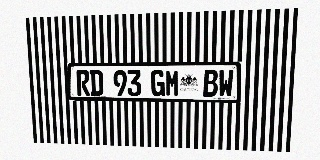3: (127, 70, 141, 96)
9: (113, 70, 127, 96)
B: (203, 70, 218, 97)
D: (89, 70, 103, 96)
G: (151, 70, 165, 96)
M: (165, 70, 179, 96)
R: (76, 70, 90, 96)
W: (218, 70, 234, 97)
